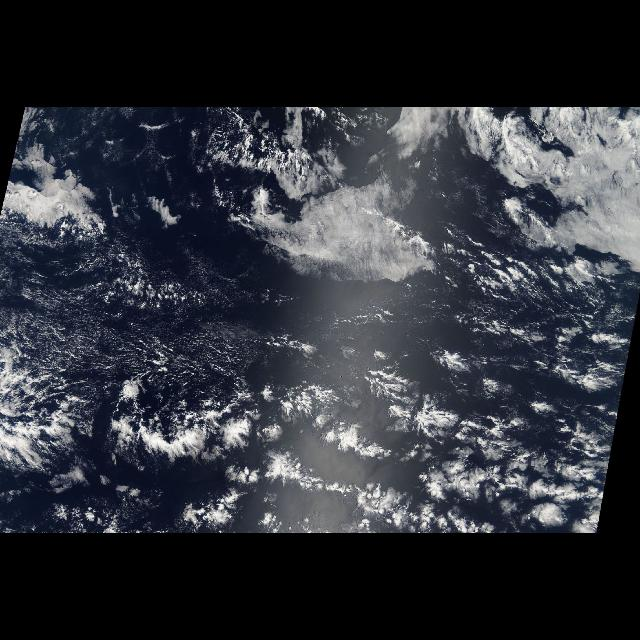Flower: (336, 345, 632, 529), (98, 388, 332, 532)
Gravel: (351, 361, 609, 534)
Sugar: (0, 232, 284, 394)
